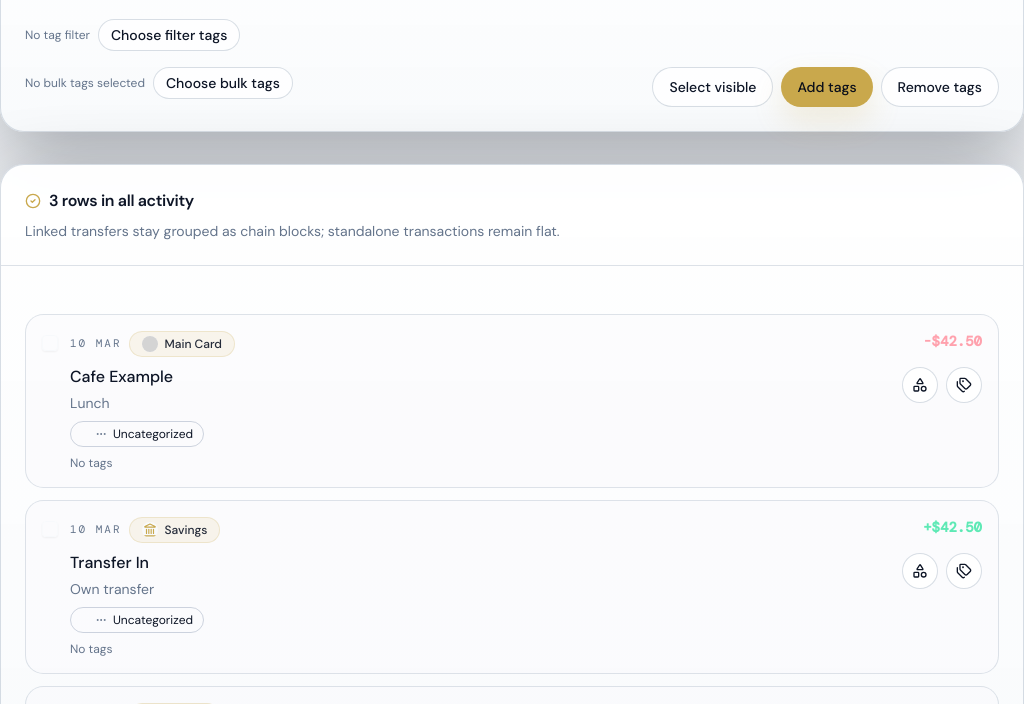
Scenario: TransactionsPage › reveals the counterpart picker only for the Internal Transfer category
The width and height of the screenshot is (1024, 704).
(page scrolled)
Click the button named "Edit category" in the row of "Cafe Example" at (920, 384), box [902,366,938,402]
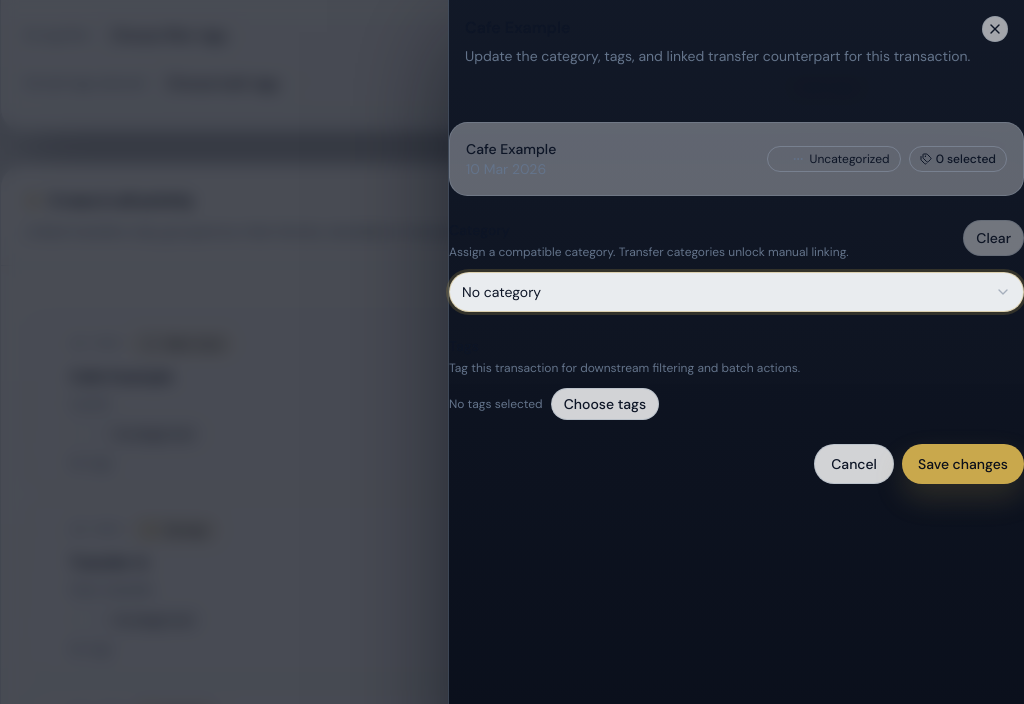
Click the dropdown named "Transaction category" at (502, 292), box [449,272,1023,312]
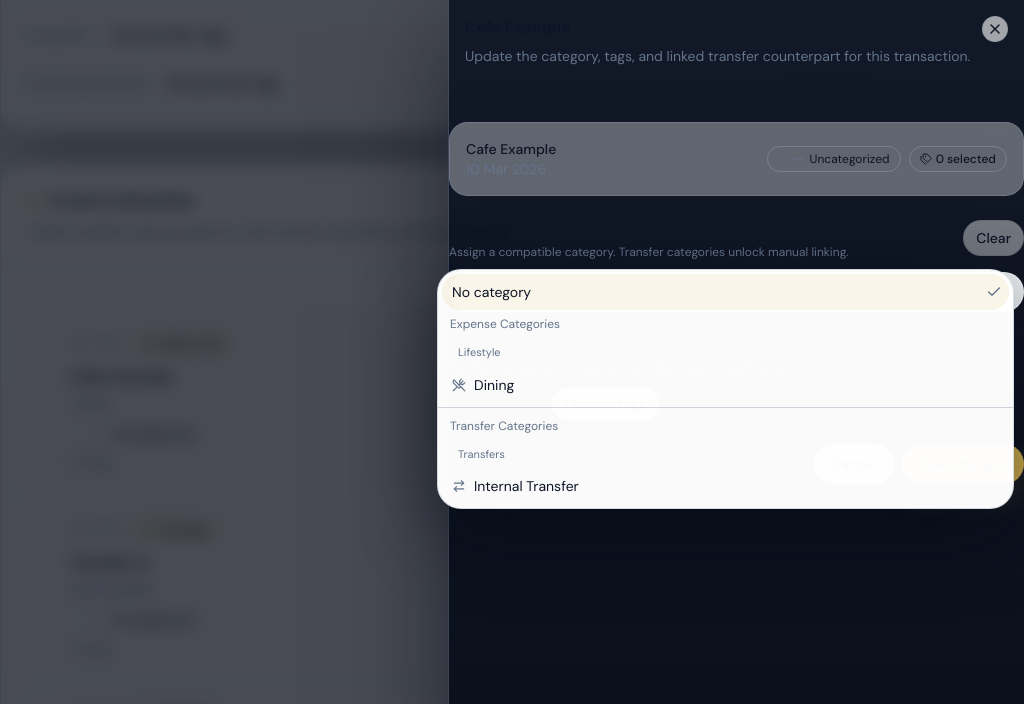
Click the option "Internal Transfer" at (515, 486), box [452,477,579,495]
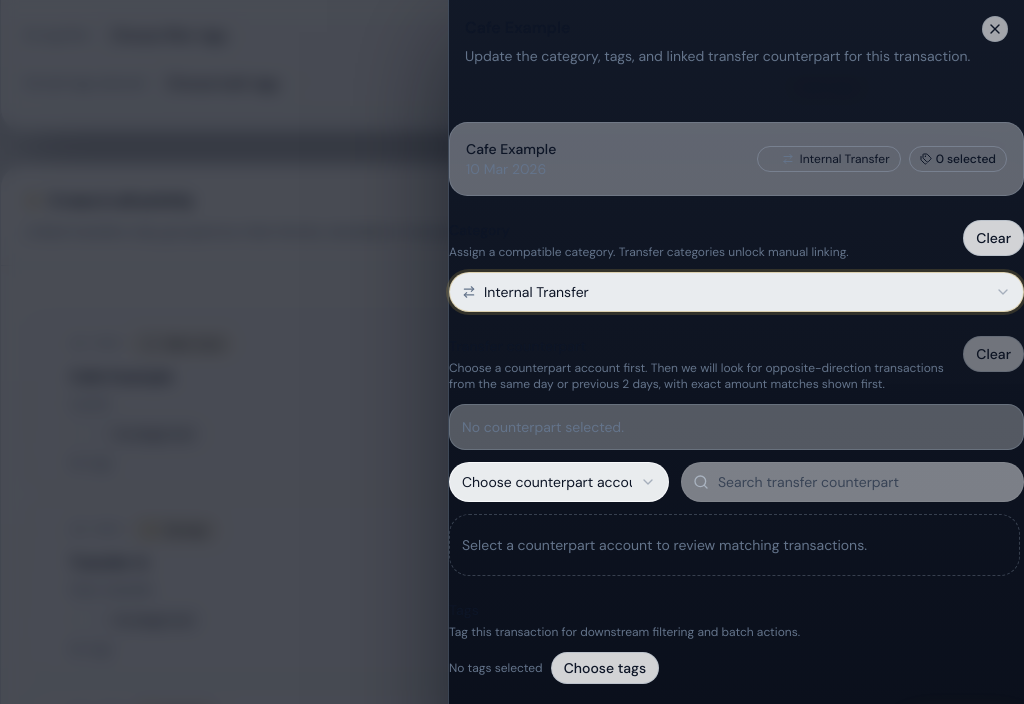
expect the text "Transfer counterpart" is shown: met, box [449,337,586,355]
expect the dropdown labelled "counterpart account" is shown: met, box [449,462,669,502]
expect the text "Select a counterpart account to review matching transactions." is shown: met, box [449,514,1020,576]
